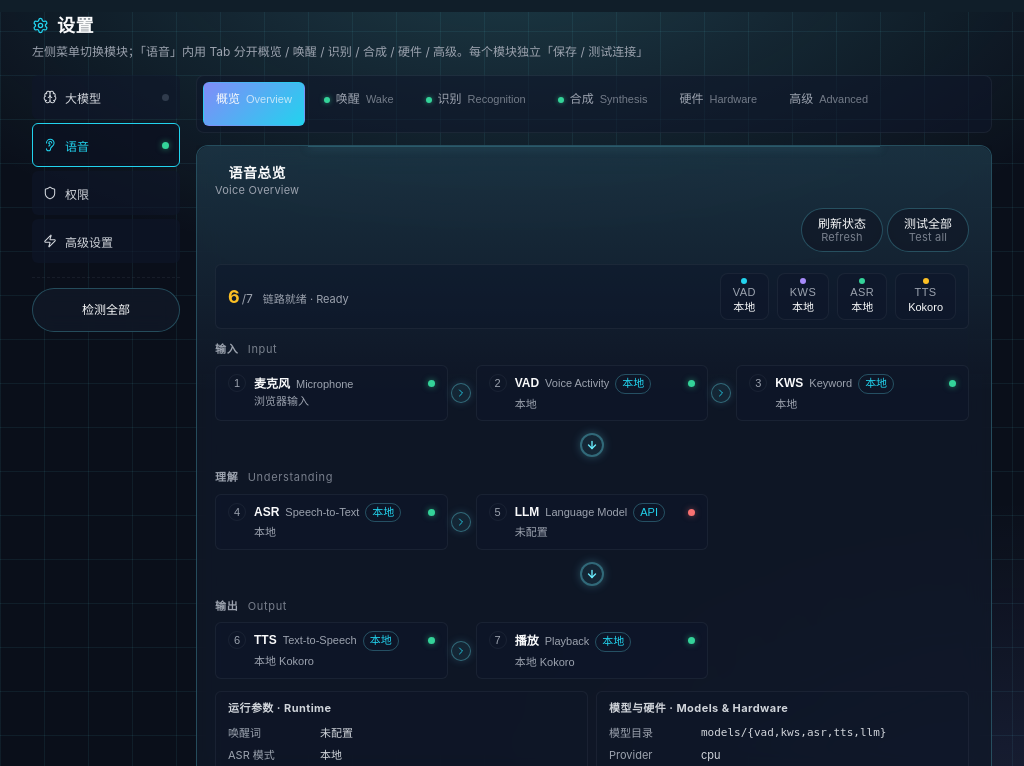
Test: ConsoleSettings 语音统一页 › 合成 Tab 本地分支显示引擎选择 + 本地 TTS 卡
Click the tab "合成 Synthesis".
click(603, 104)  # box [545,82,660,126]
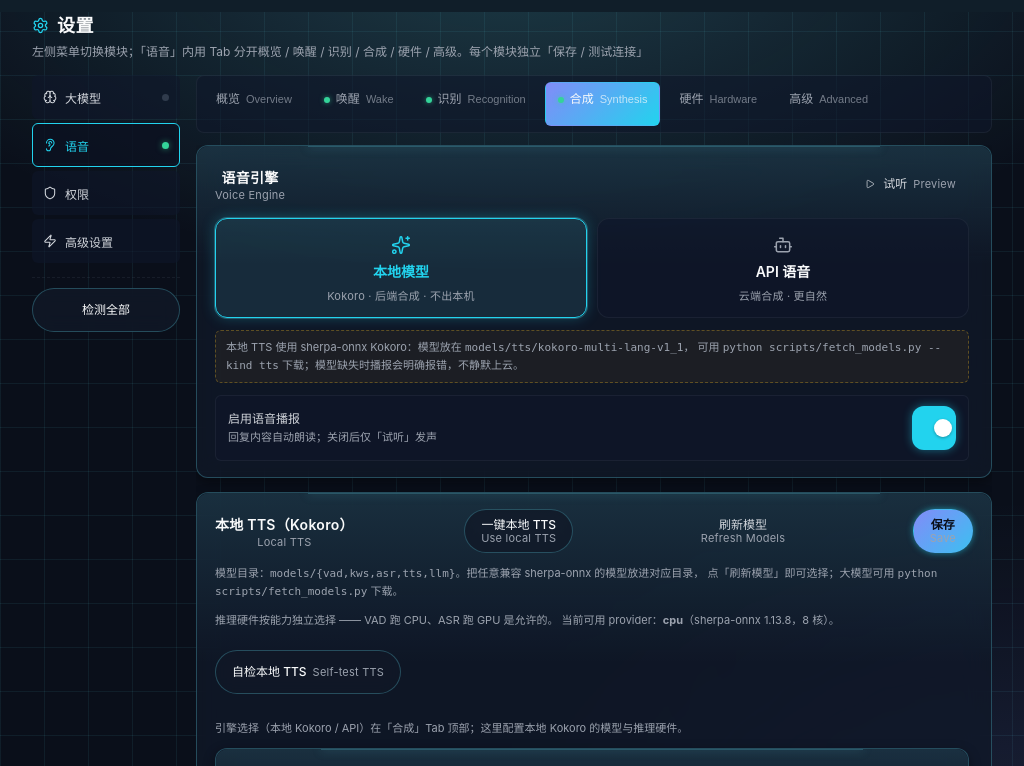
Result: the text "语音引擎" is shown at [222,167,279,188]
Result: the element with class "ui-radio-cards" is shown at [215,218,969,318]
Result: the text "本地 TTS（Kokoro）" is shown at [215,514,354,535]
